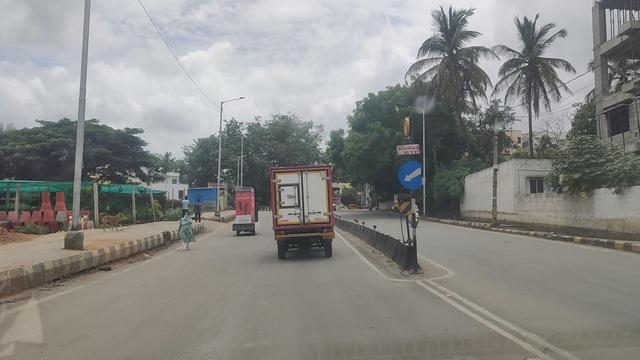HMV: (270, 158, 343, 262)
LMV: (224, 180, 257, 242)
